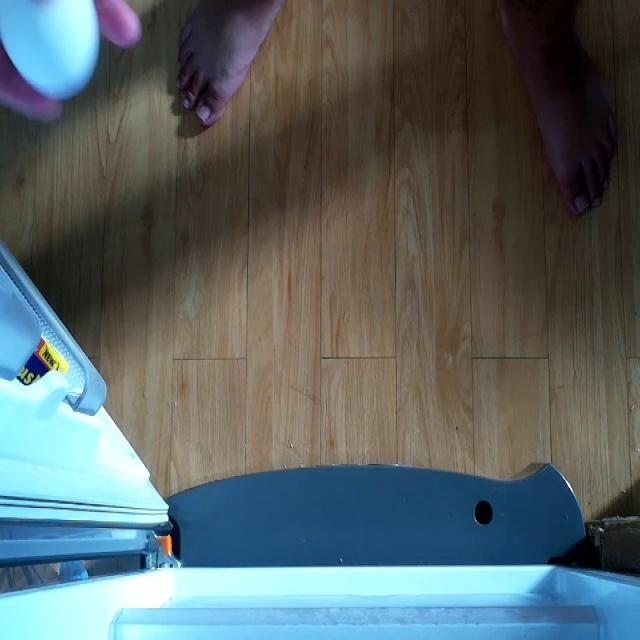egg: (2, 1, 104, 104)
